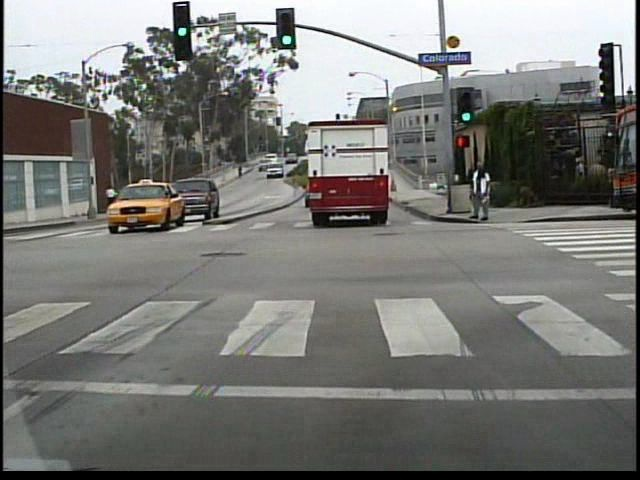person: (469, 163, 493, 222), (106, 184, 123, 216)
